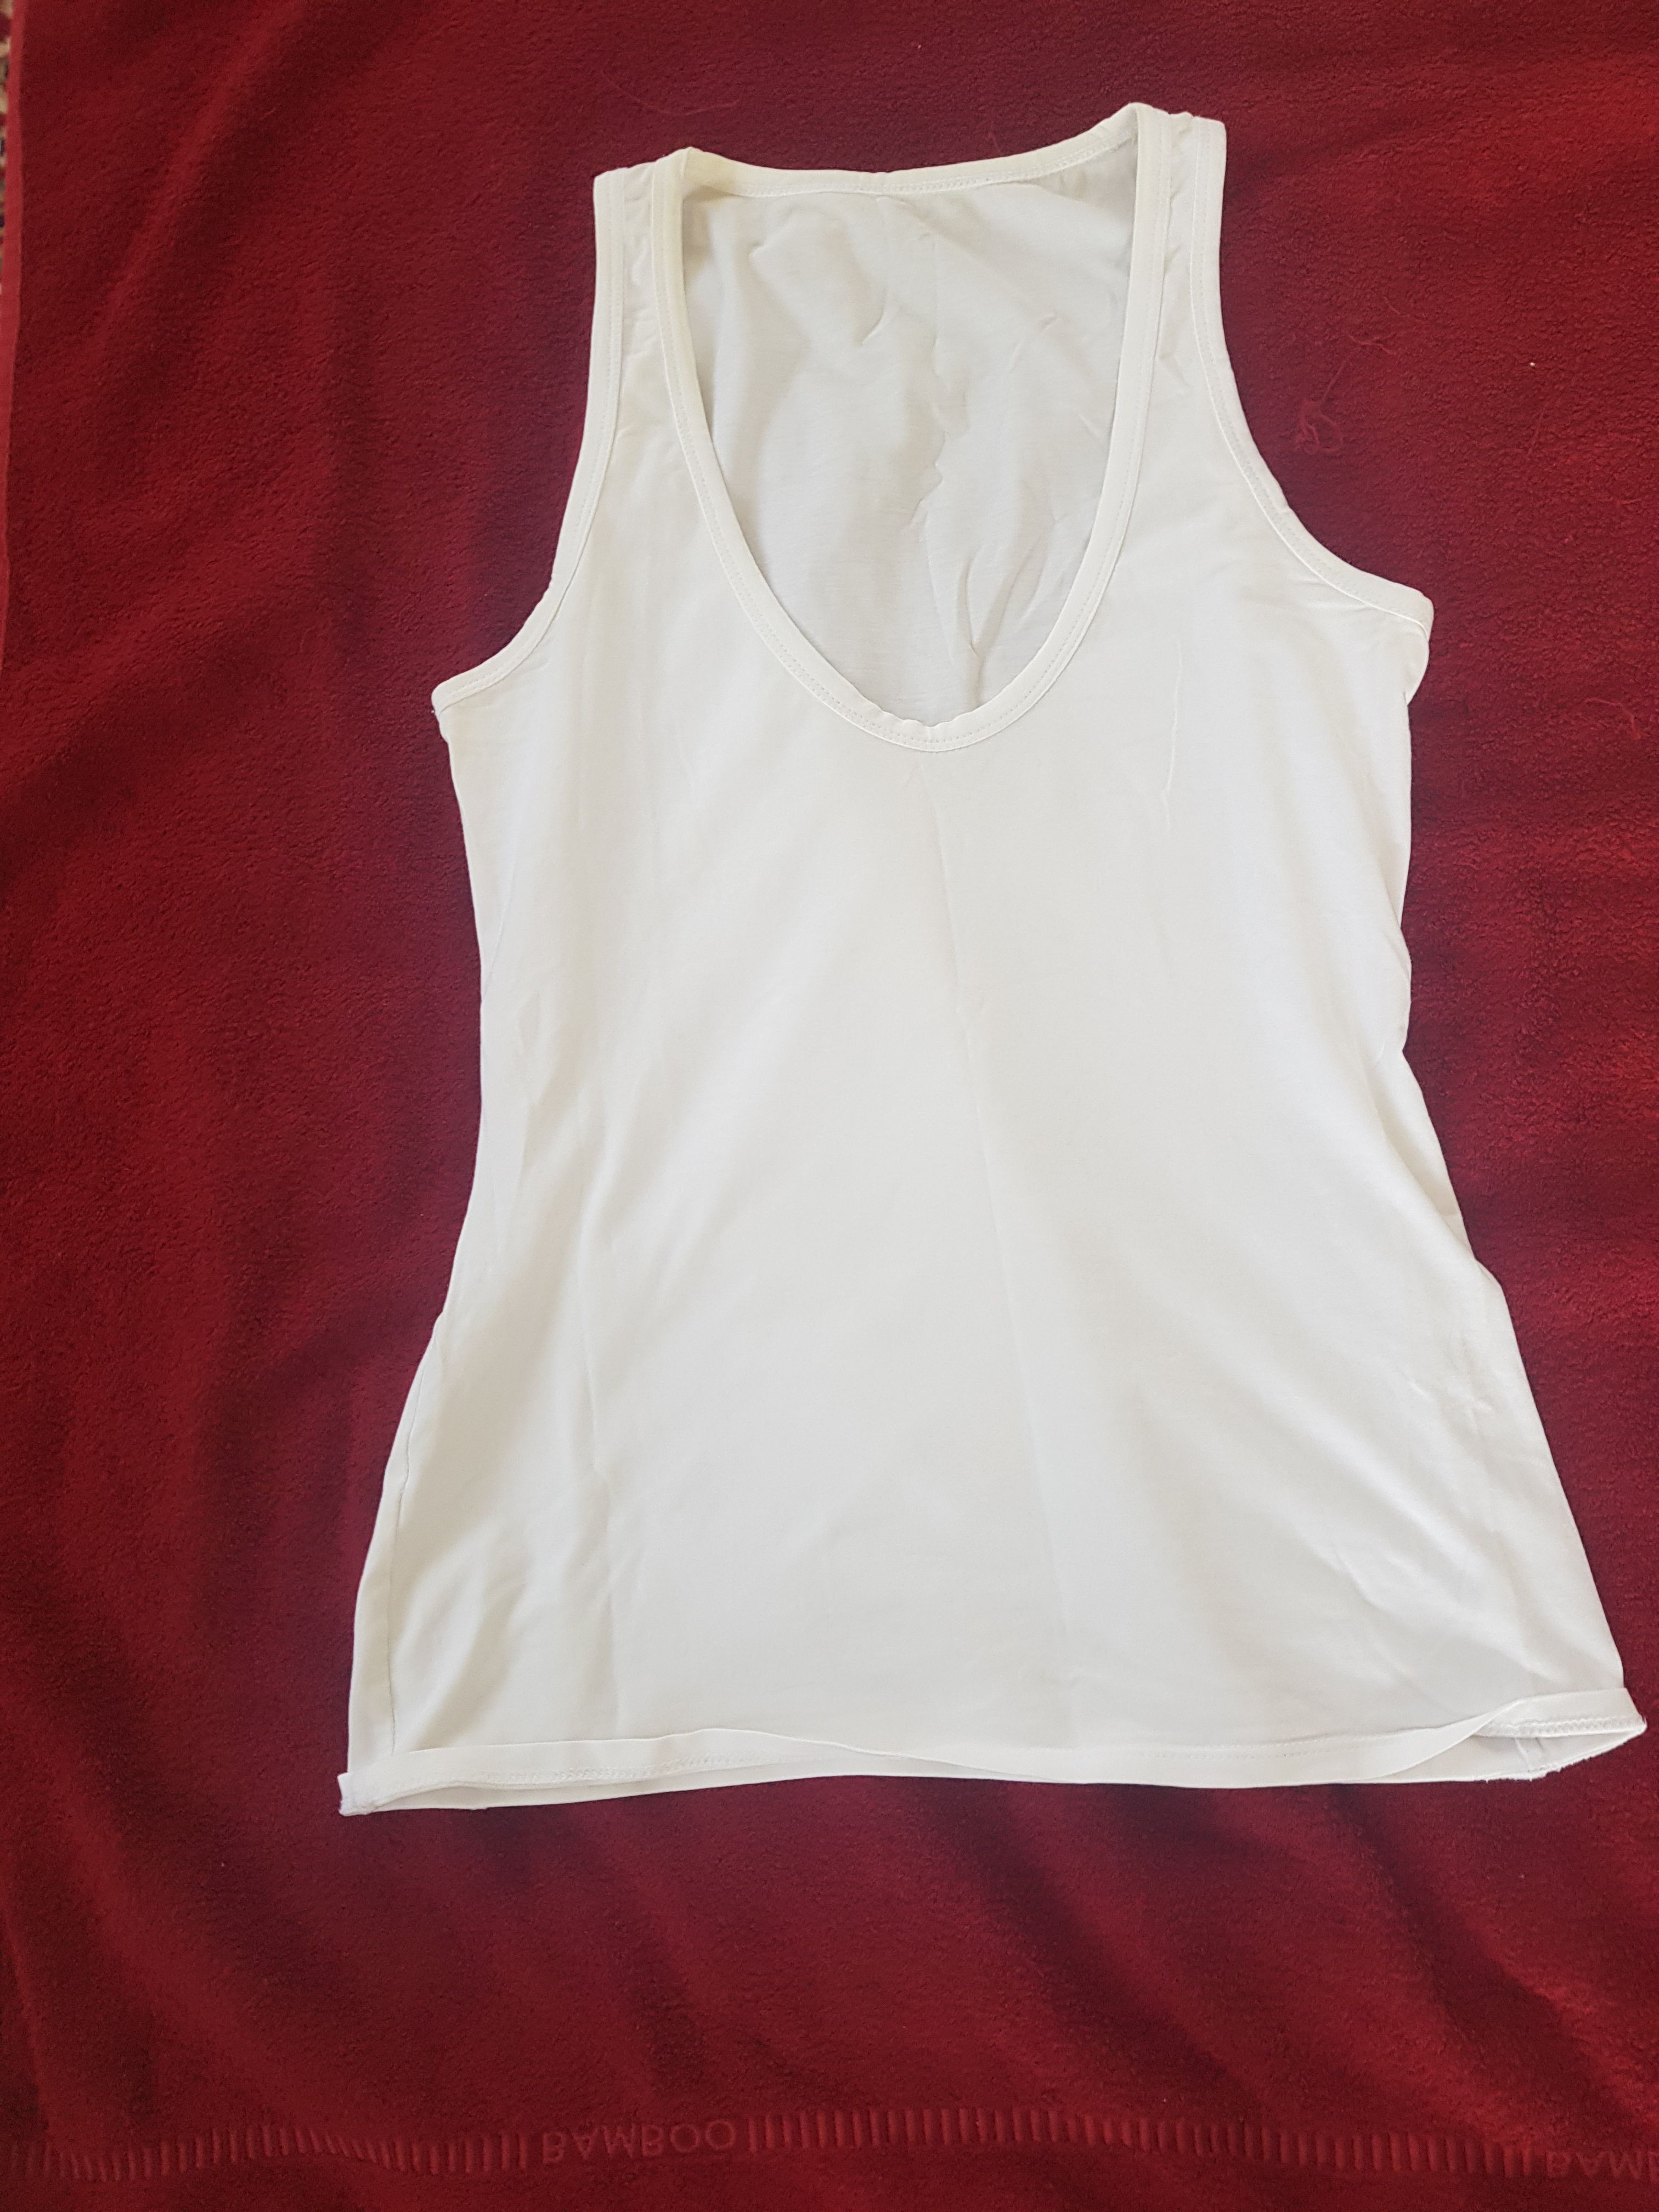clothes: (315, 96, 1659, 1836)
